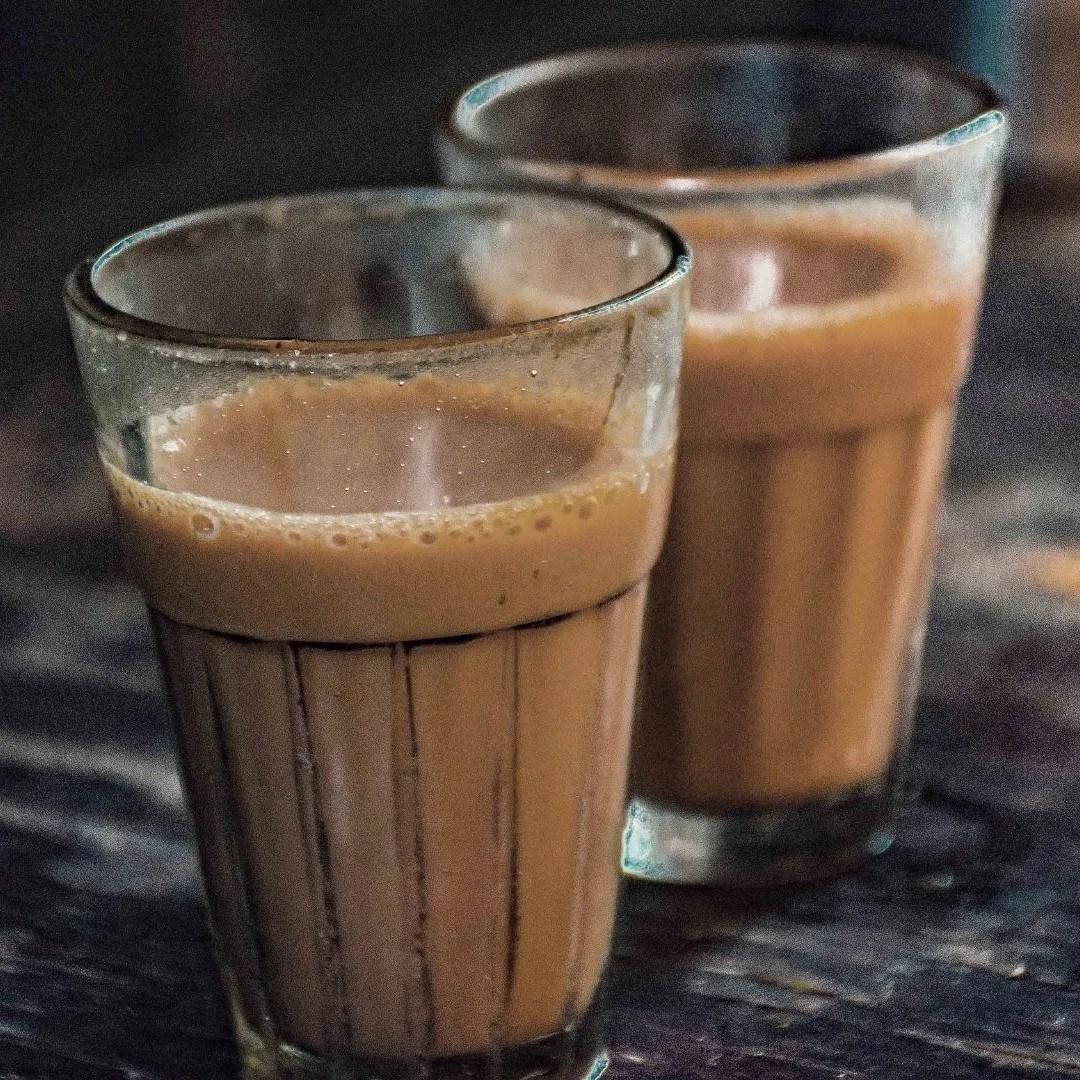Chai: (115, 365, 678, 1070), (581, 208, 981, 806)
